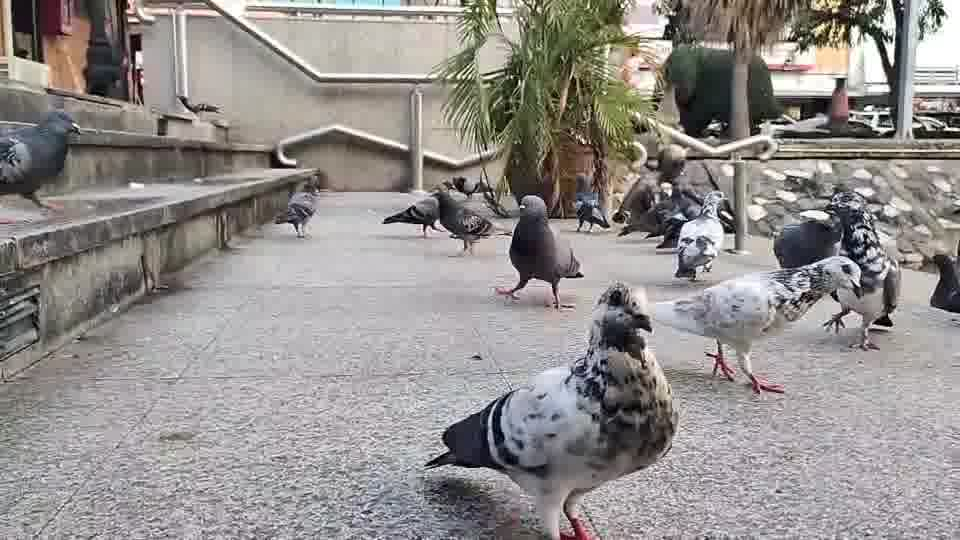Pigeon: (423, 280, 679, 539), (653, 254, 863, 395), (772, 190, 901, 351), (493, 193, 584, 311), (0, 108, 81, 212), (670, 191, 726, 281), (428, 187, 494, 256), (381, 194, 445, 238), (928, 239, 959, 318), (273, 189, 320, 239), (573, 198, 610, 232), (176, 94, 224, 119)
